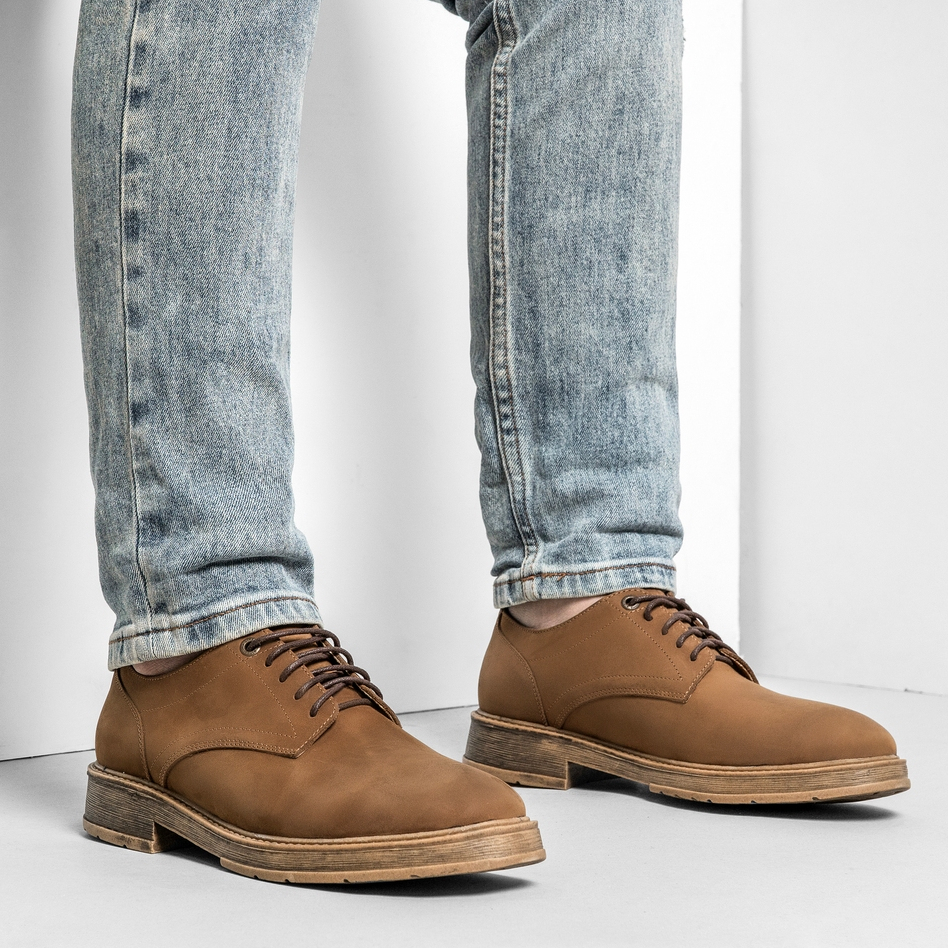derby: (80, 625, 546, 891), (462, 592, 911, 809)
